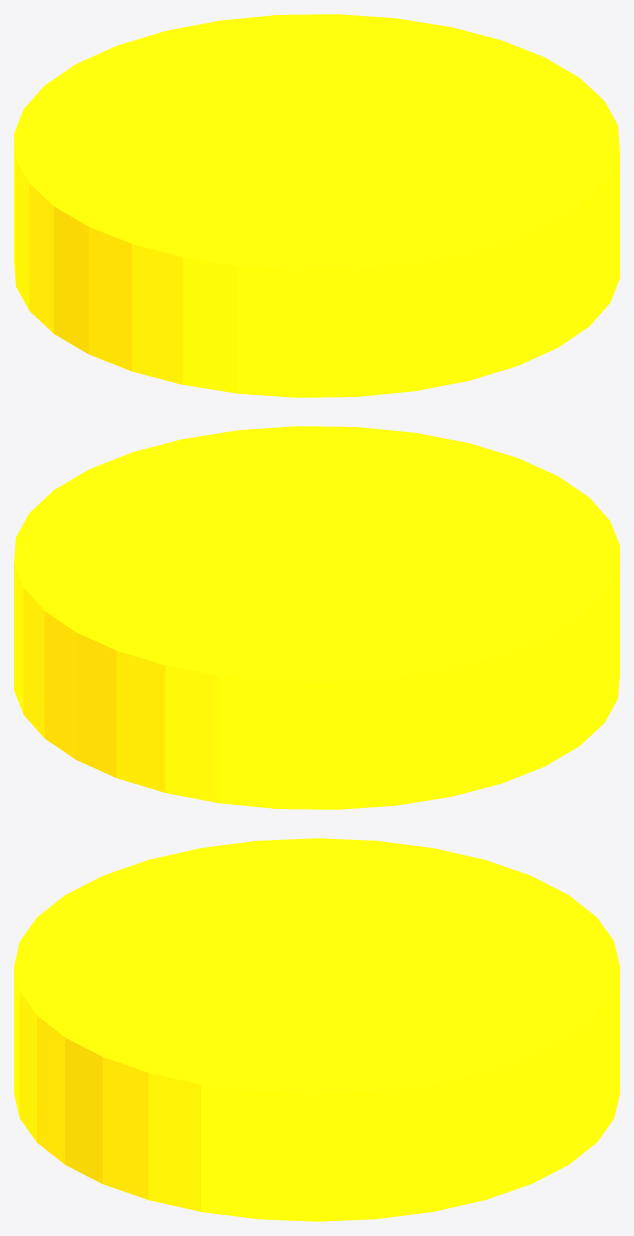
The model's file is ExportedBlenderFBXFile.fbx.
3 views of the same model, one above another, from view 1: azimuth 30°, elevation 25°; view 2: azimuth 150°, elevation 25°; view 3: azimuth 270°, elevation 25° (orthographic).
Visible parts, largest first — view 1: Circle; view 2: Circle; view 3: Circle.
Part boxes in pixels (bbox=[...]): Circle: bbox=[14, 14, 619, 397]; Circle: bbox=[14, 426, 619, 809]; Circle: bbox=[14, 838, 619, 1221].
Bounding box in the file's own units: 4.1 × 0.9512 × 4.1.
